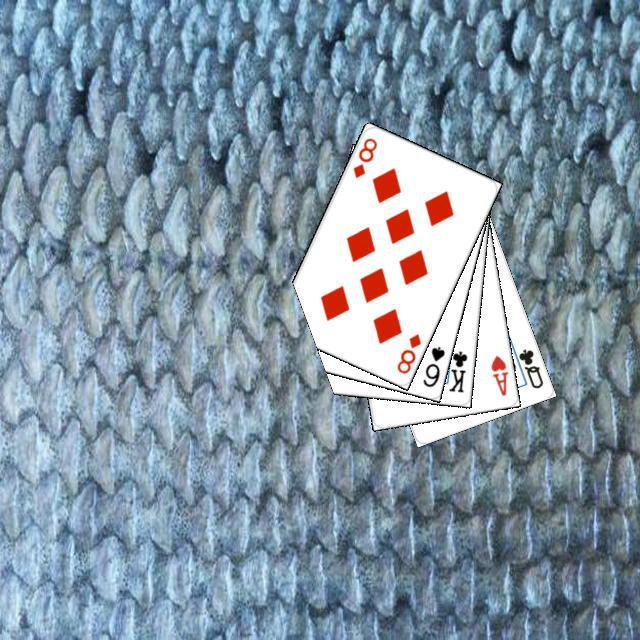6s: (418, 341, 446, 389)
8d: (348, 133, 379, 180), (392, 329, 423, 375)
Ah: (486, 350, 510, 398)
Kc: (440, 341, 469, 394)
Qc: (508, 343, 545, 390)
